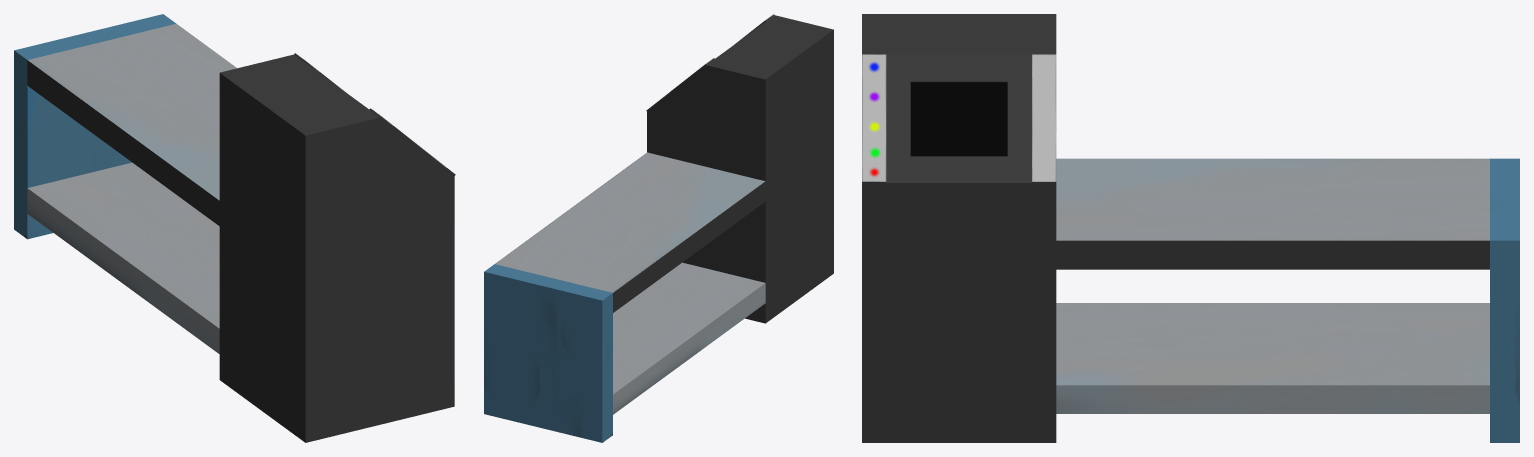
File: workbench.obj
The picture shows the model from 3 angles, left to right: view 1: azimuth 30°, elevation 25°; view 2: azimuth 150°, elevation 25°; view 3: azimuth 270°, elevation 25°; orthographic projection. The views are drawn at different scales.
Parts seen in each view (by area): view 1: Cube_Cube.032; view 2: Cube_Cube.032; view 3: Cube_Cube.032.
Part boxes in pixels (x1,y1,x2,y2): Cube_Cube.032: (14, 14, 455, 442); Cube_Cube.032: (484, 14, 833, 442); Cube_Cube.032: (862, 14, 1519, 442).
Bounding box in the file's own units: 0.5186 × 1.02 × 1.74.
